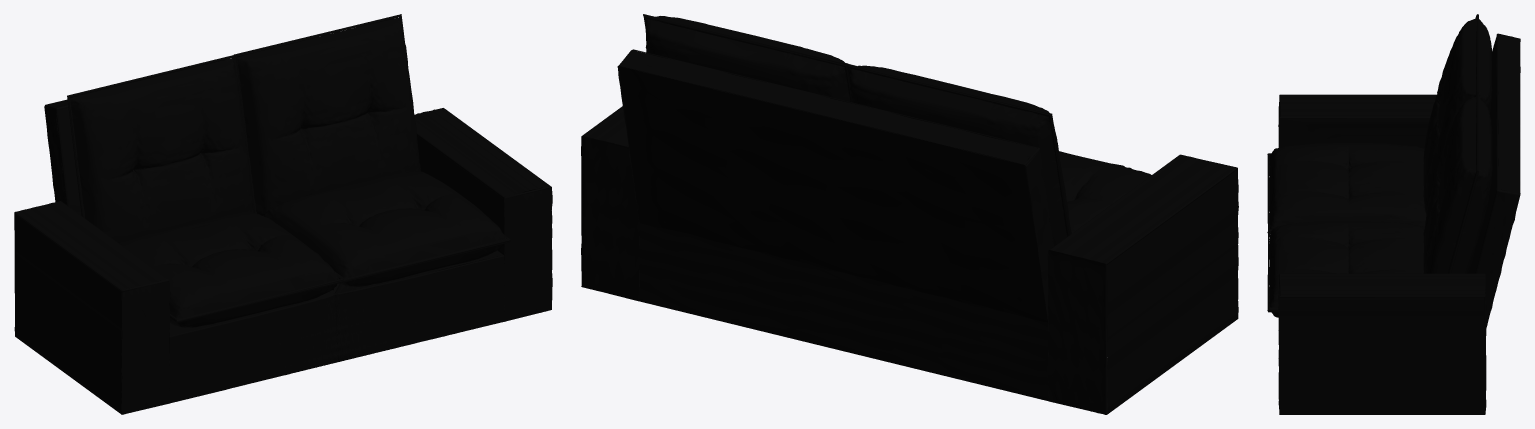
Rendered from Sofá Preto.glb.
The picture shows the model from 3 angles, left to right: view 1: azimuth 30°, elevation 25°; view 2: azimuth 150°, elevation 25°; view 3: azimuth 270°, elevation 25°; orthographic projection. The views are drawn at different scales.
Parts seen in each view (by area): view 1: Sofá\Sólido (4), Sofá\Sólido (3), Componente2\Sólido11, Componente1\Sólido, Sofá\Sólido (2), Sofá\Sólido, Componente2\Sólido11 (2), Sólido1\Sólido1; view 2: Sólido1\Sólido1, Componente2\Sólido11, Componente1\Sólido, Sofá\Sólido (3), Componente2\Sólido11 (2), Sofá\Sólido (4), Sofá\Sólido; view 3: Componente2\Sólido11 (2), Sofá\Sólido, Sofá\Sólido (4), Sofá\Sólido (2), Componente2\Sólido11, Sólido1\Sólido1, Sofá\Sólido (3).
Boxes of the visible parts, x1=… form: Sofá\Sólido (4): x1=234, y1=14, x2=420, y2=215; Sofá\Sólido (3): x1=67, y1=55, x2=253, y2=242; Componente2\Sólido11: x1=14, y1=201, x2=170, y2=414; Componente1\Sólido: x1=121, y1=250, x2=504, y2=403; Sofá\Sólido (2): x1=263, y1=171, x2=510, y2=286; Sofá\Sólido: x1=118, y1=212, x2=343, y2=327; Componente2\Sólido11 (2): x1=414, y1=108, x2=552, y2=321; Sólido1\Sólido1: x1=44, y1=99, x2=81, y2=215; Sólido1\Sólido1: x1=617, y1=49, x2=1054, y2=323; Componente2\Sólido11: x1=1047, y1=154, x2=1238, y2=414; Componente1\Sólido: x1=639, y1=223, x2=1108, y2=400; Sofá\Sólido (3): x1=847, y1=64, x2=1071, y2=246; Componente2\Sólido11 (2): x1=581, y1=106, x2=639, y2=301; Sofá\Sólido (4): x1=643, y1=14, x2=850, y2=101; Sofá\Sólido: x1=1059, y1=151, x2=1151, y2=233; Componente2\Sólido11 (2): x1=1278, y1=273, x2=1486, y2=414; Sofá\Sólido: x1=1267, y1=143, x2=1426, y2=231; Sofá\Sólido (4): x1=1423, y1=92, x2=1492, y2=273; Sofá\Sólido (2): x1=1267, y1=221, x2=1424, y2=317; Componente2\Sólido11: x1=1278, y1=94, x2=1436, y2=148; Sólido1\Sólido1: x1=1468, y1=33, x2=1520, y2=327; Sofá\Sólido (3): x1=1423, y1=14, x2=1492, y2=214.
Size of the model in its own units: 3.94 by 2.03 by 2.09.
1 material, 1 textured.
